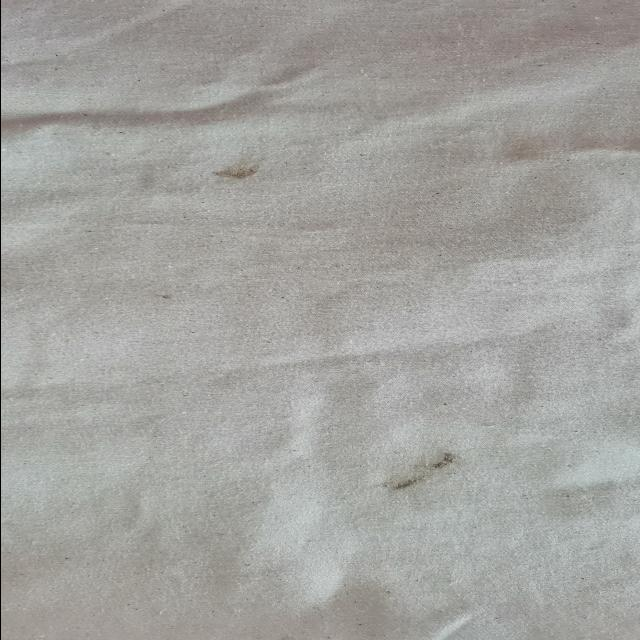taaaches: (371, 446, 477, 498), (202, 164, 268, 187)
